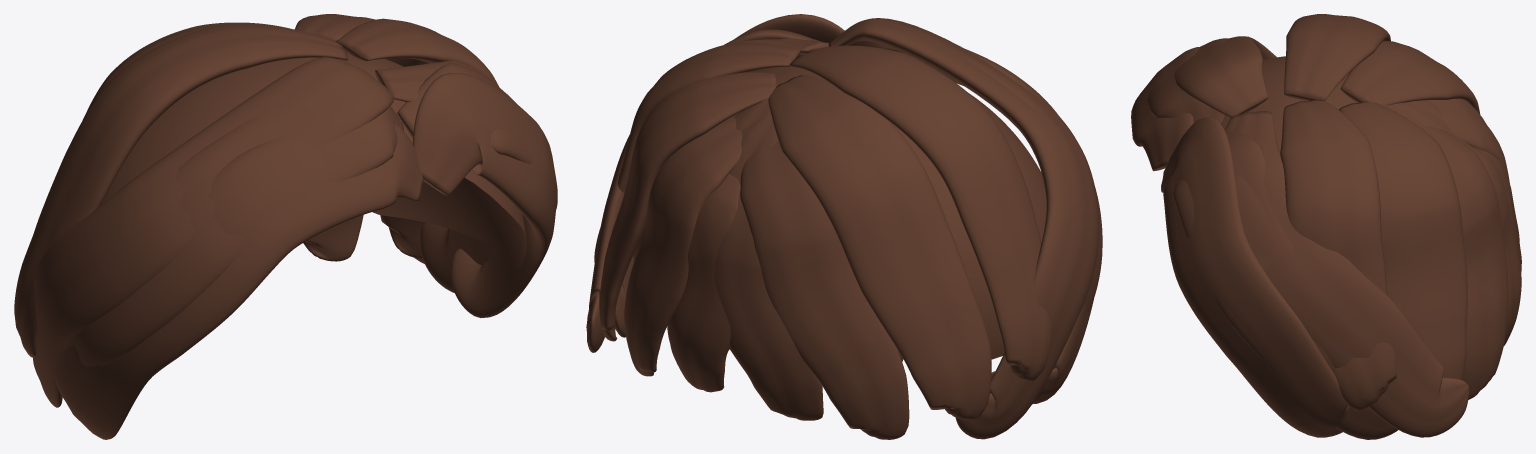
Rendered from Masculine-flow-ears261-hair.glb.
The picture shows the model from 3 angles, left to right: view 1: azimuth 30°, elevation 25°; view 2: azimuth 150°, elevation 25°; view 3: azimuth 270°, elevation 25°; orthographic projection. The views are drawn at different scales.
Visible parts, largest first — view 1: 226 hair / Hair260 / layered flow; view 2: 226 hair / Hair260 / layered flow; view 3: 226 hair / Hair260 / layered flow.
Part boxes in pixels (x1,y1,x2,y2): 226 hair / Hair260 / layered flow: [14, 14, 557, 439]; 226 hair / Hair260 / layered flow: [586, 14, 1102, 439]; 226 hair / Hair260 / layered flow: [1131, 14, 1521, 439].
Bounding box in the file's own units: 1.12 × 0.7722 × 0.87.
